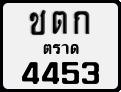letters: (21, 60, 40, 85), (41, 61, 60, 85), (29, 9, 46, 35), (62, 61, 80, 85), (82, 60, 100, 84), (51, 10, 68, 35), (73, 10, 90, 35)
province: (42, 43, 79, 55)
